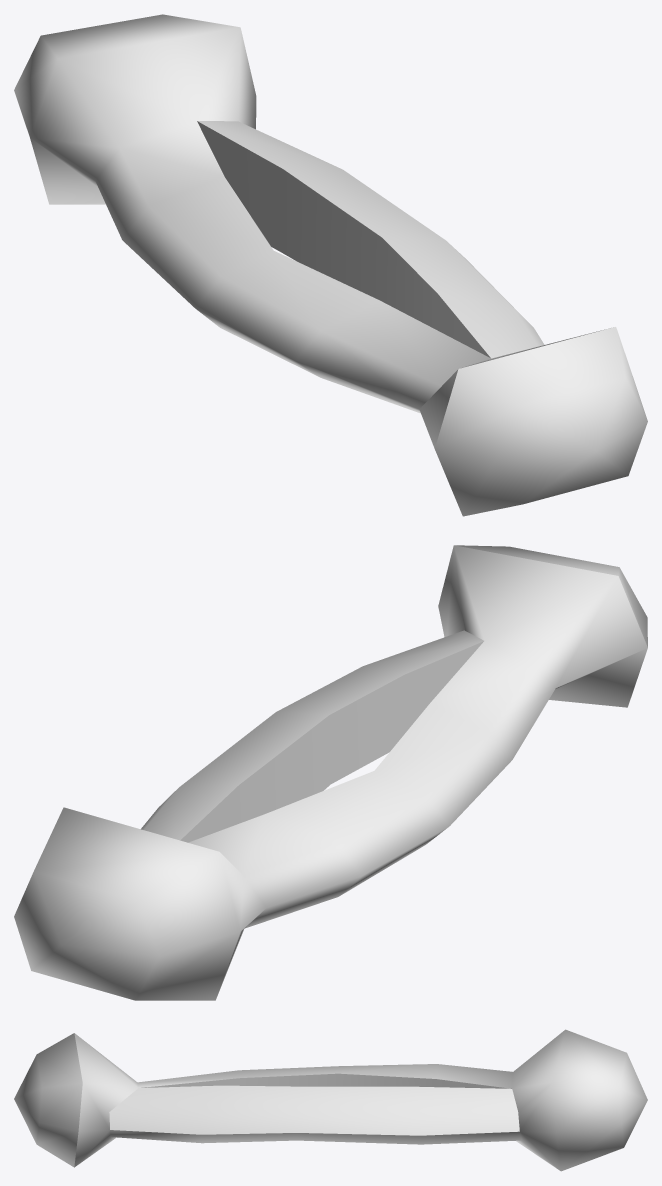
The model's file is Bone_2.fbx.
The picture shows the model from 3 angles, top to bottom: view 1: azimuth 30°, elevation 25°; view 2: azimuth 150°, elevation 25°; view 3: azimuth 270°, elevation 25°; orthographic projection. The views are drawn at different scales.
Parts seen in each view (by area): view 1: Bone_2; view 2: Bone_2; view 3: Bone_2.
Boxes of the visible parts, <box> form: Bone_2: <box>14,14,647,516</box>; Bone_2: <box>14,545,647,1000</box>; Bone_2: <box>14,1029,647,1171</box>.
Bounding box in the file's own units: 3.39 × 2.06 × 12.78.
